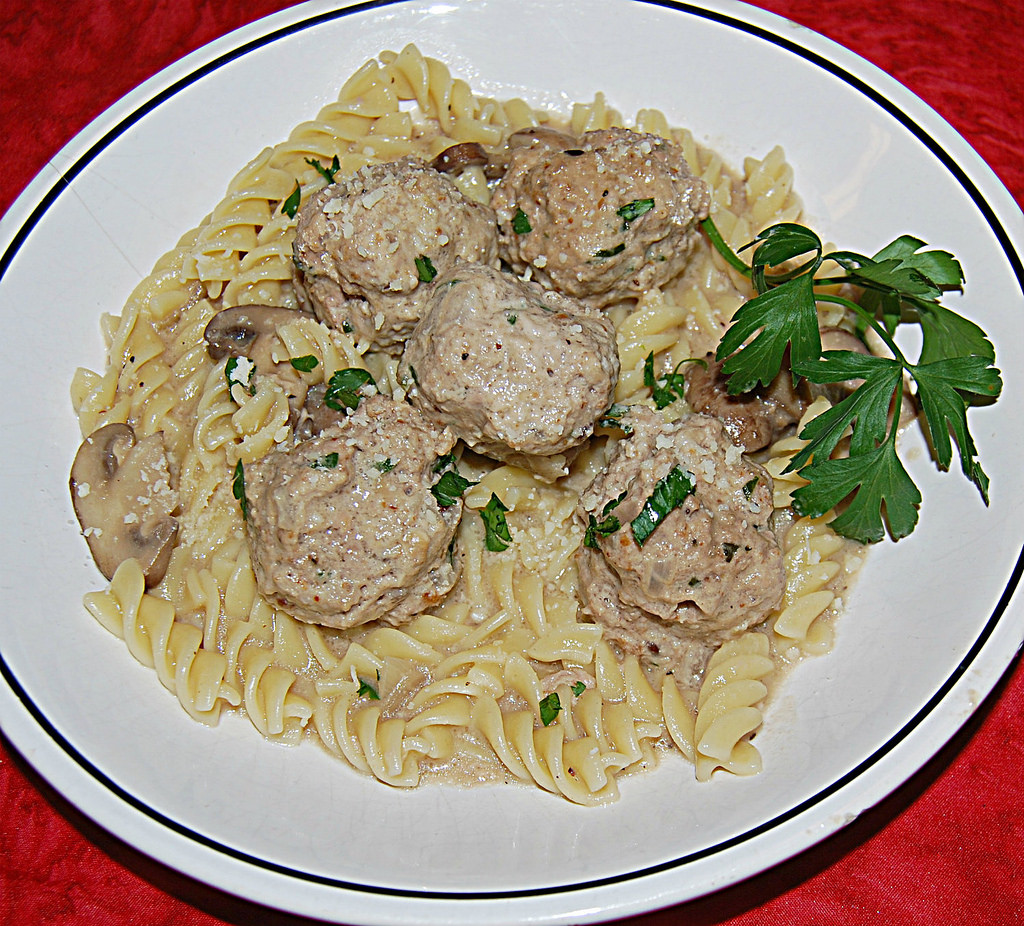meatballs: (244, 407, 501, 662), (585, 433, 792, 673), (423, 262, 603, 455), (471, 116, 679, 278), (305, 162, 488, 335)
plain spaghetti: (126, 297, 233, 526)
